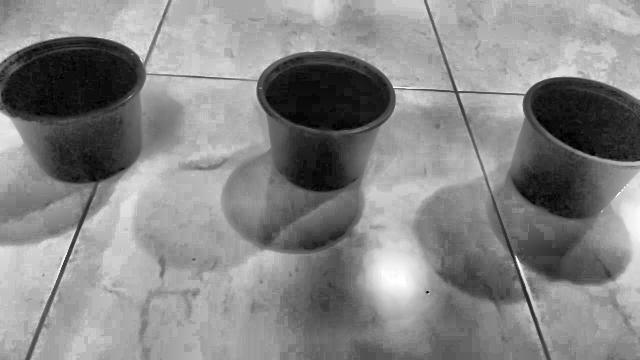pot: (0, 37, 146, 182), (257, 52, 395, 192), (508, 77, 640, 218)
